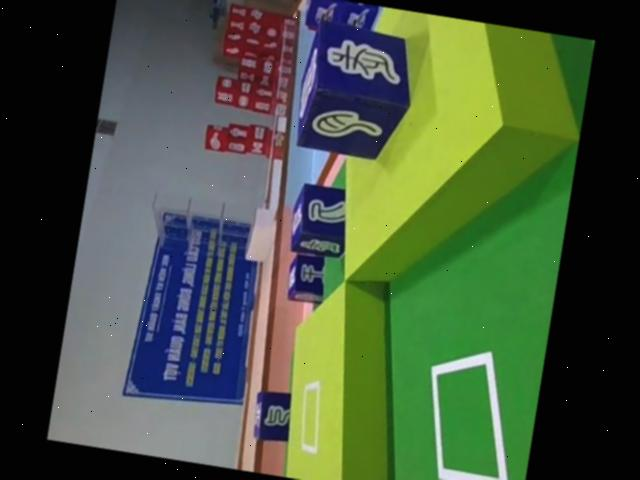R2 Fake Blue: (291, 22, 424, 168), (286, 180, 357, 261), (246, 388, 295, 447), (285, 252, 331, 307)
